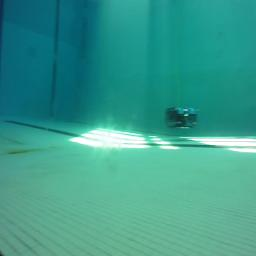front: (166, 106, 199, 130)
